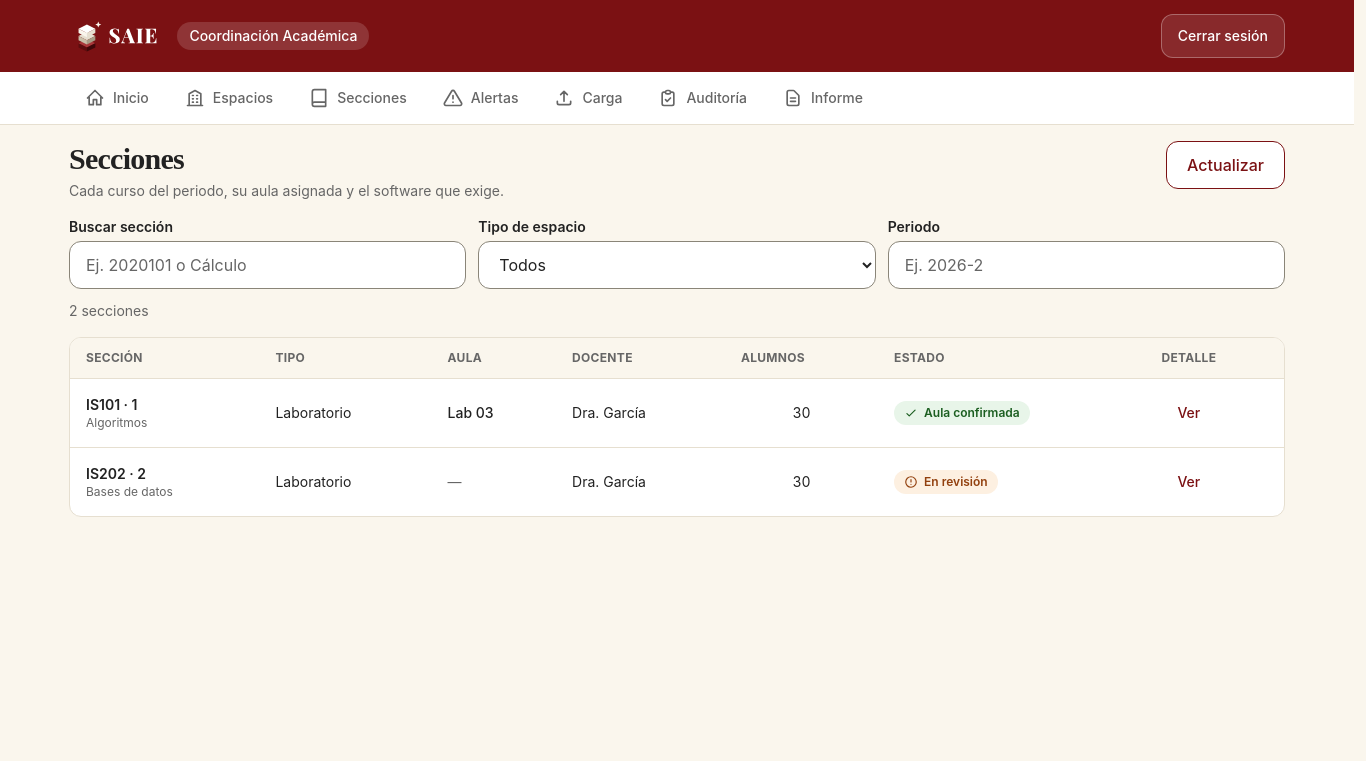
Scenario: Gestión individual de secciones (Issue 4.31) › abre el detalle de una sección y permite editarla
The width and height of the screenshot is (1366, 761).
Click the button with aria-label "Ver detalle de IS101 1". click: (1189, 413)
box: [1161,391,1216,435]
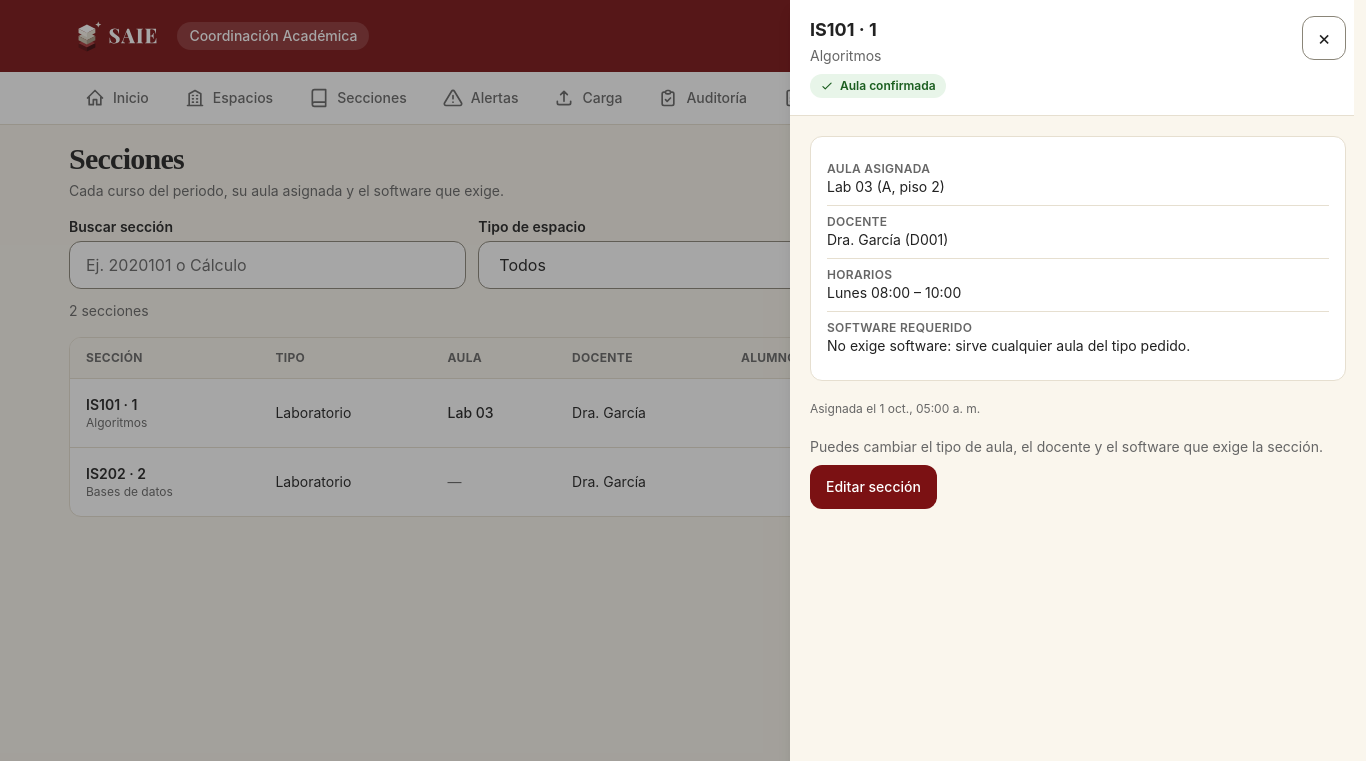
expect the text "Dra. García (D001)" is shown: met, box [827,231,948,248]
Click the button "Editar sección". click: (873, 487)
box: [810,465,937,509]
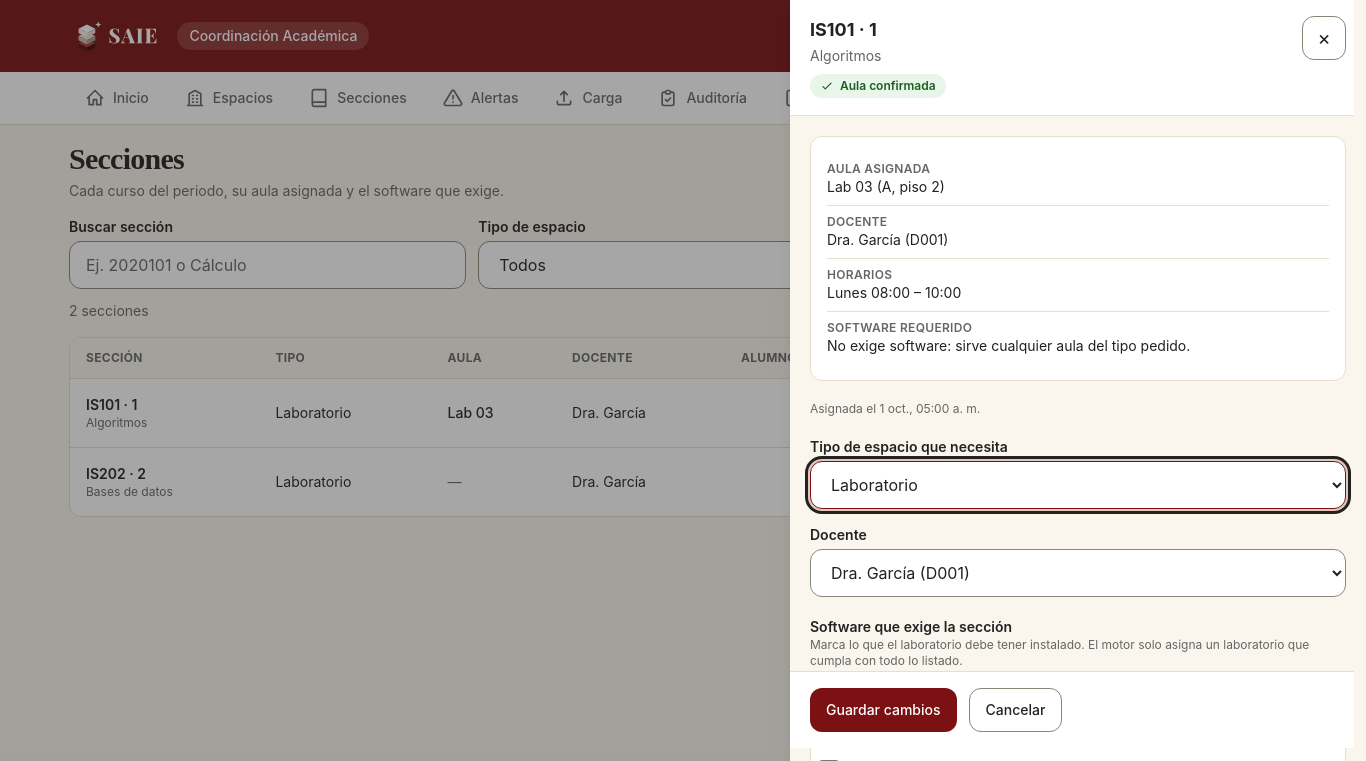
expect the text "Software que exige la sección" is shown: met, box [810,617,1012,637]
expect the dropdown labelled "Tipo de espacio que necesita" is shown: met, box [810,461,1346,509]
expect the dropdown labelled "Docente" is shown: met, box [810,549,1346,597]
